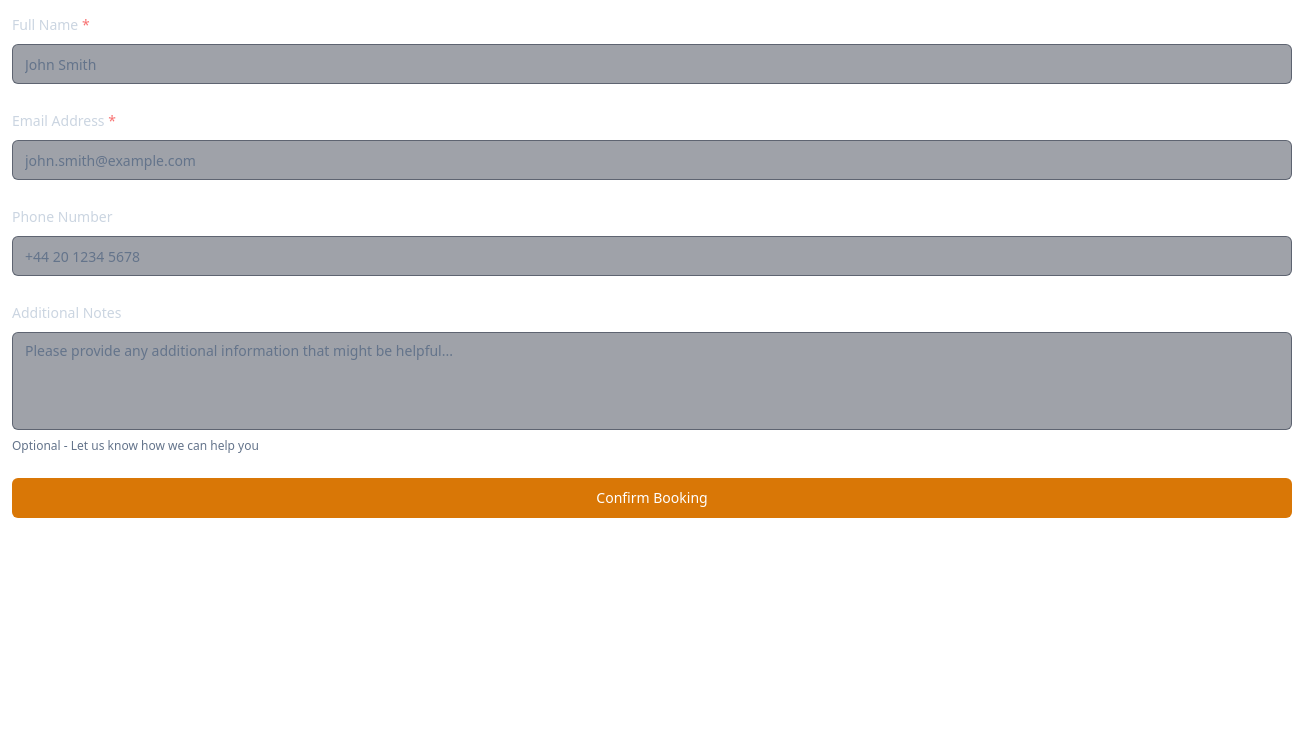
Test: BookingForm › should show validation errors for required fields
What coordinates should you click on to do the following:
click the button "Confirm Booking"
I would click on:
 (652, 498)
Its box is [12,478,1292,518].
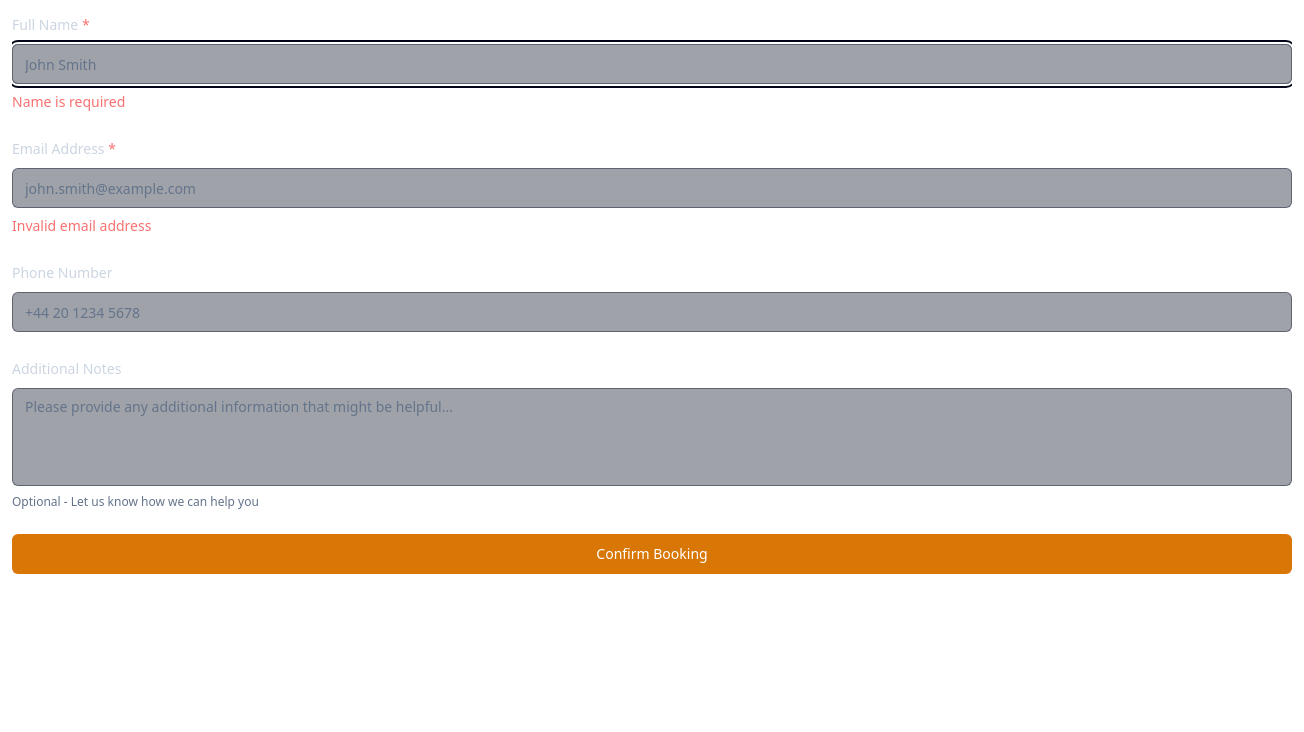
Result: the text "Name is required" is shown at [12,92,125,111]
